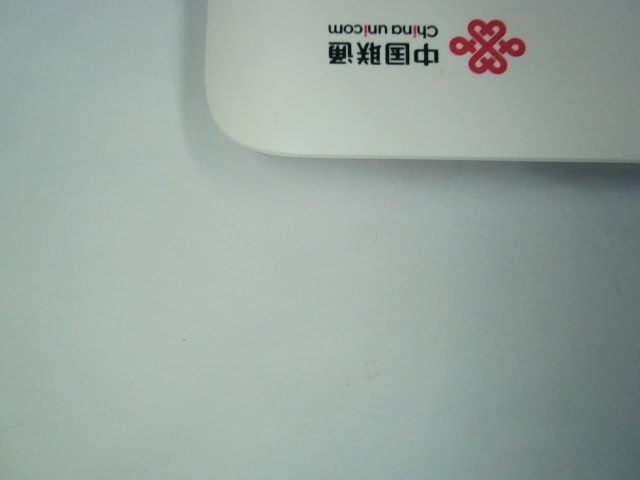AD_ChinaUnicom: (316, 10, 538, 83)
